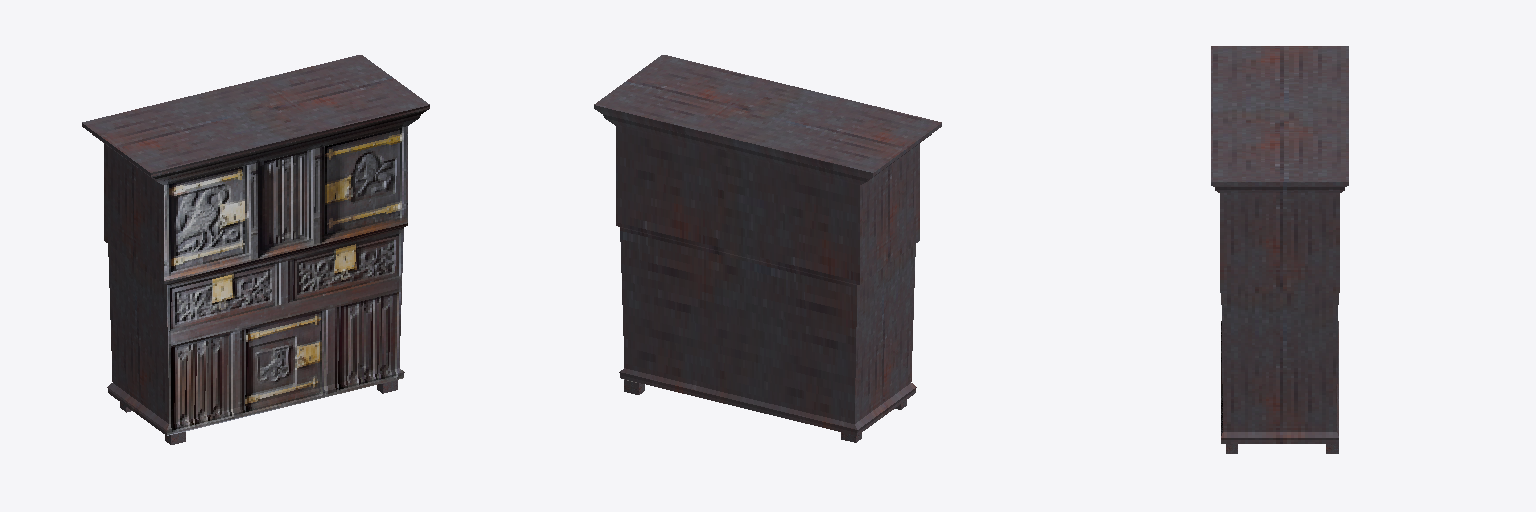
The picture shows the model from 3 angles: view 1: azimuth 30°, elevation 25°; view 2: azimuth 150°, elevation 25°; view 3: azimuth 270°, elevation 25°; orthographic projection.
Parts seen in each view (by area): view 1: furniture7; view 2: furniture7; view 3: furniture7.
Boxes of the visible parts, <box> form: furniture7: <box>82,55,429,444</box>; furniture7: <box>594,55,941,442</box>; furniture7: <box>1211,46,1348,453</box>.
Size of the model in its own units: 1.55 by 1.51 by 0.6651.
1 materials, 1 textured.